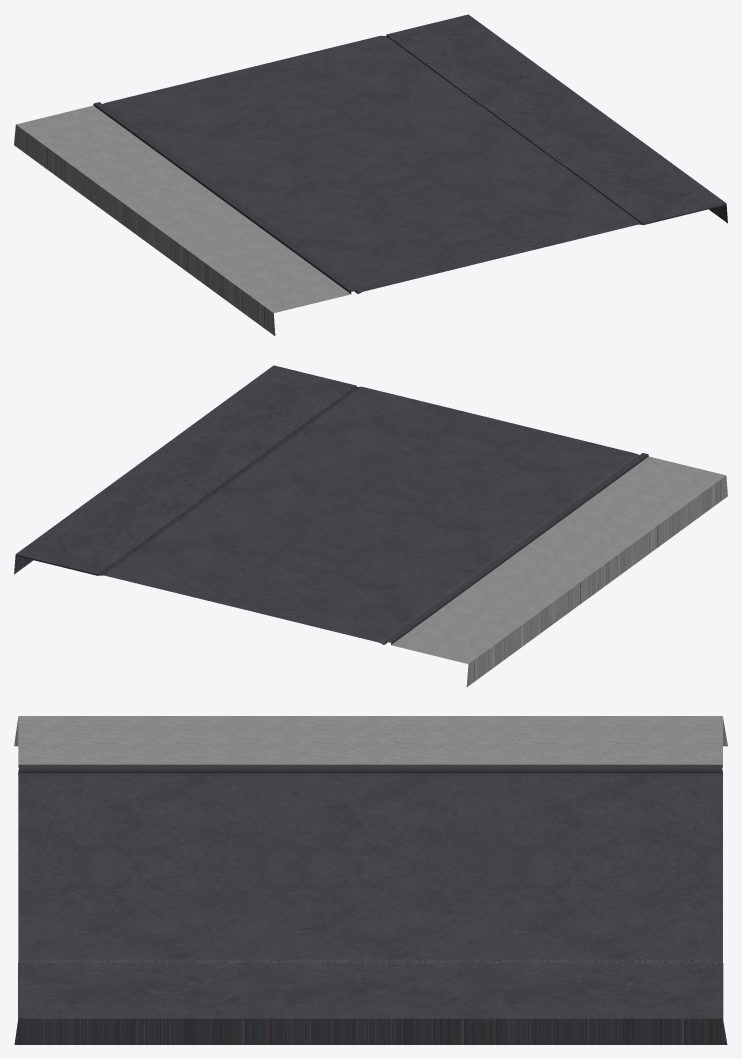
File: StraightSquareOneSideOpen.dae
3 views of the same model, one above another, from view 1: azimuth 30°, elevation 25°; view 2: azimuth 150°, elevation 25°; view 3: azimuth 270°, elevation 25° (orthographic). The views are drawn at different scales.
Visible parts, largest first — view 1: OneSideOpen_Strt; view 2: OneSideOpen_Strt; view 3: OneSideOpen_Strt.
Boxes of the visible parts, x1,y1,x2,y2 form: OneSideOpen_Strt: [14, 14, 727, 335]; OneSideOpen_Strt: [14, 365, 727, 686]; OneSideOpen_Strt: [14, 716, 727, 1044].
Size of the model in its own units: 20.52 by 20.52 by 1.05.
3 materials, 3 textured.
